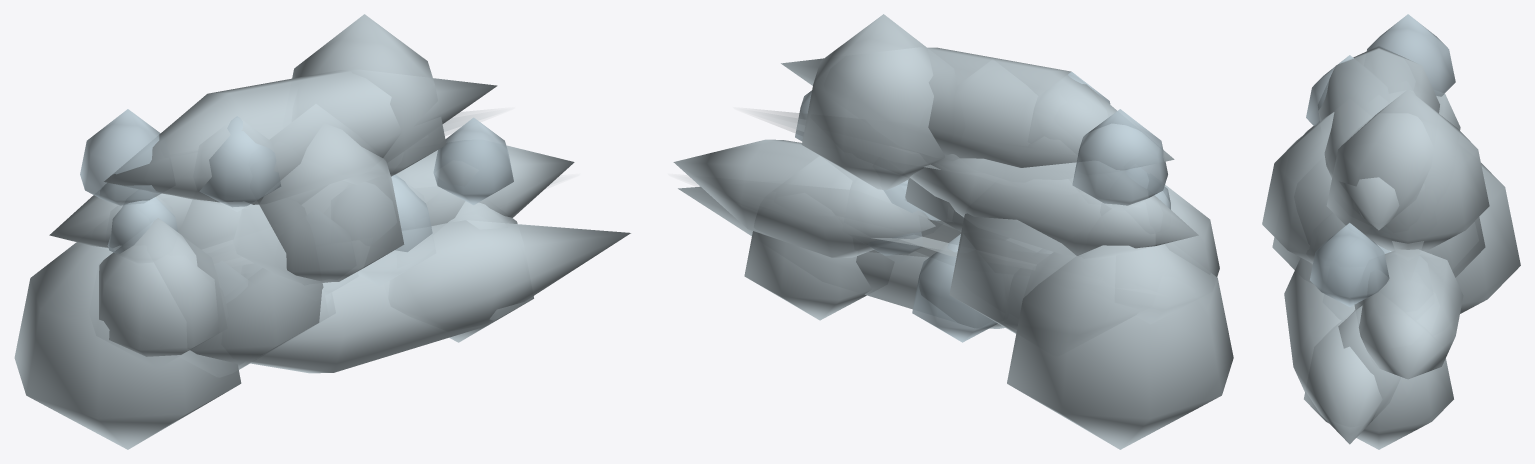
The model's file is wet_cloth_contact.glb.
3 renders of one model, left to right at view 1: azimuth 30°, elevation 25°; view 2: azimuth 150°, elevation 25°; view 3: azimuth 270°, elevation 25°, orthographic. The views are drawn at different scales.
Parts seen in each view (by area): view 1: drop_08, drop_07, drop_00, drop_02, drop_01, drop_05, drop_03, drop_09, drop_06, drop_15, drop_14, drop_11 (+4 smaller); view 2: drop_00, drop_07, drop_09, drop_03, drop_06, drop_01, drop_15, drop_04, drop_08, drop_12, drop_05, drop_13 (+4 smaller); view 3: drop_03, drop_09, drop_08, drop_07, drop_02, drop_04, drop_14, drop_00, drop_15, drop_01, drop_11, fiber_03 (+1 smaller).
Boxes of the visible parts, bbox=[...] form: drop_08: bbox=[250, 220, 630, 373]; drop_07: bbox=[104, 71, 497, 204]; drop_00: bbox=[14, 242, 241, 449]; drop_02: bbox=[259, 123, 404, 282]; drop_01: bbox=[178, 199, 323, 369]; drop_05: bbox=[99, 218, 219, 356]; drop_03: bbox=[292, 14, 446, 176]; drop_09: bbox=[391, 145, 574, 230]; drop_06: bbox=[49, 183, 192, 247]; drop_15: bbox=[80, 109, 161, 205]; drop_14: bbox=[433, 117, 513, 205]; drop_11: bbox=[199, 116, 281, 207]; drop_00: bbox=[1007, 244, 1233, 449]; drop_07: bbox=[781, 47, 1174, 169]; drop_09: bbox=[673, 139, 935, 257]; drop_03: bbox=[801, 14, 944, 190]; drop_06: bbox=[909, 158, 1198, 255]; drop_01: bbox=[949, 213, 1076, 333]; drop_15: bbox=[1072, 109, 1167, 205]; drop_04: bbox=[744, 231, 872, 320]; drop_08: bbox=[678, 185, 1004, 328]; drop_12: bbox=[912, 234, 997, 342]; drop_05: bbox=[1155, 184, 1219, 276]; drop_13: bbox=[868, 179, 942, 255]; drop_03: bbox=[1326, 89, 1489, 251]; drop_09: bbox=[1354, 249, 1463, 379]; drop_08: bbox=[1284, 258, 1382, 444]; drop_07: bbox=[1318, 46, 1439, 230]; drop_02: bbox=[1262, 112, 1389, 263]; drop_04: bbox=[1304, 305, 1453, 449]; drop_14: bbox=[1310, 223, 1389, 306]; drop_00: bbox=[1455, 163, 1520, 313]; drop_15: bbox=[1367, 14, 1455, 96]; drop_01: bbox=[1272, 217, 1485, 277]; drop_11: bbox=[1306, 55, 1353, 126]; fiber_03: bbox=[1392, 241, 1423, 272].
Size of the model in its own units: 0.0219 by 0.0137 by 0.00888.
